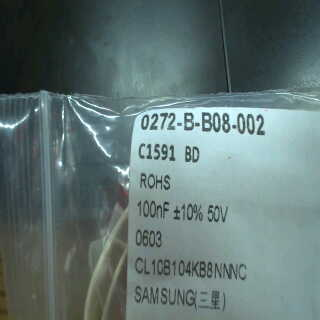100nF: (137, 200, 172, 222)
